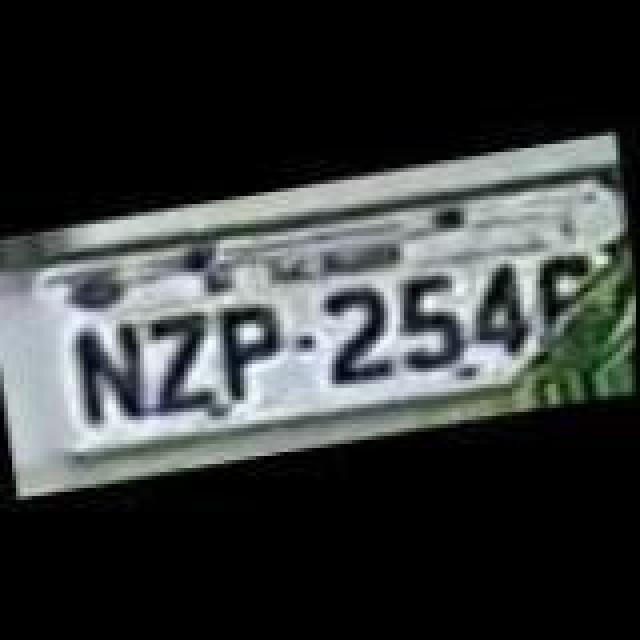2: (312, 280, 400, 392)
4: (466, 256, 542, 364)
5: (388, 268, 468, 376)
N: (68, 320, 148, 428)
P: (212, 300, 292, 408)
Z: (138, 312, 222, 420)
